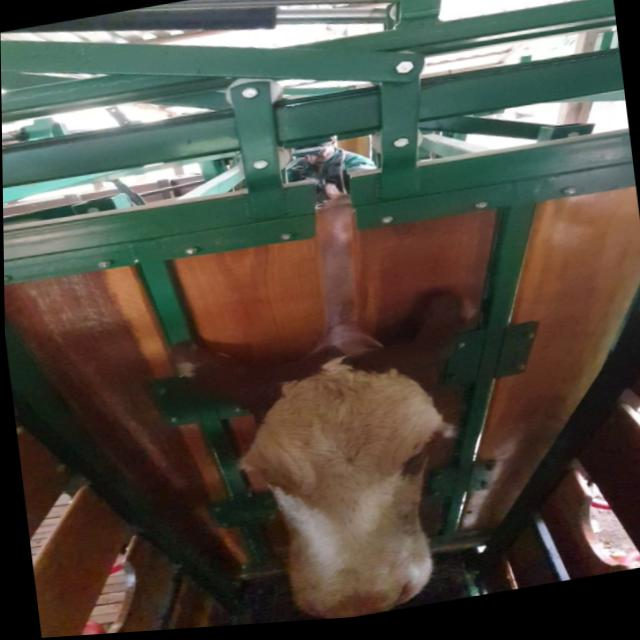cowFace: (235, 351, 458, 628)
